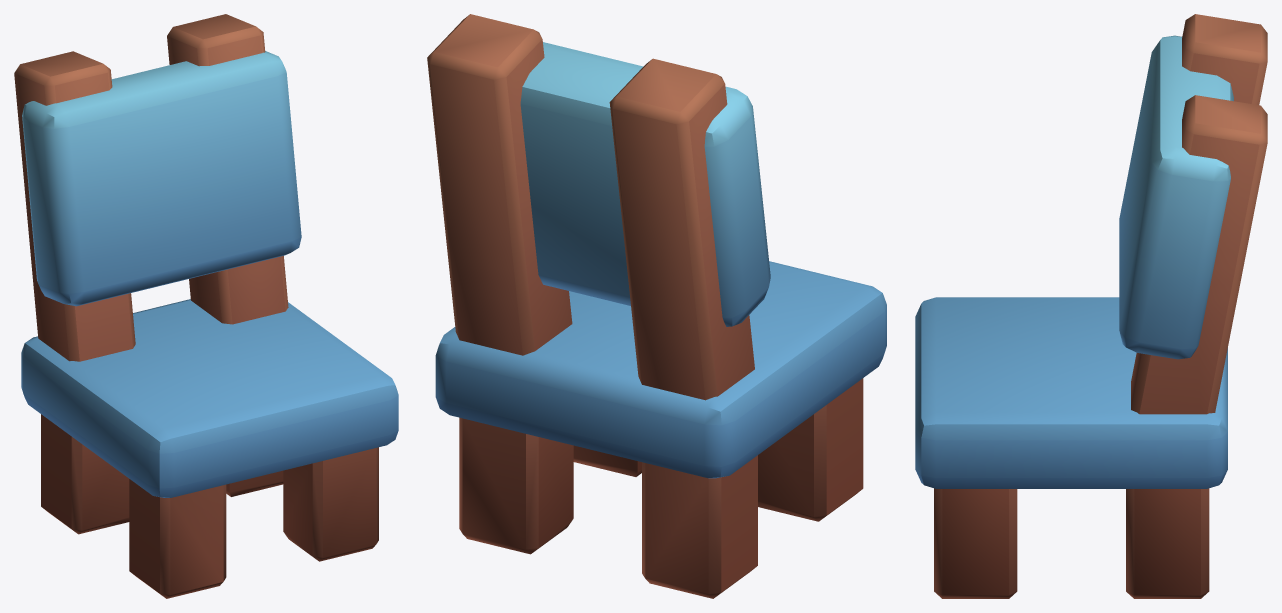
Rendered from visitor-chair.glb.
3 views of the same model, side by side, from view 1: azimuth 30°, elevation 25°; view 2: azimuth 150°, elevation 25°; view 3: azimuth 270°, elevation 25° (orthographic). The views are drawn at different scales.
Parts seen in each view (by area): view 1: chair_B; view 2: chair_B; view 3: chair_B.
Part boxes in pixels (bbox=[...]): chair_B: bbox=[14, 14, 398, 598]; chair_B: bbox=[427, 14, 886, 598]; chair_B: bbox=[915, 14, 1267, 598].
Size of the model in its own units: 0.75 by 1.26 by 0.8451.
1 material, 1 textured.
